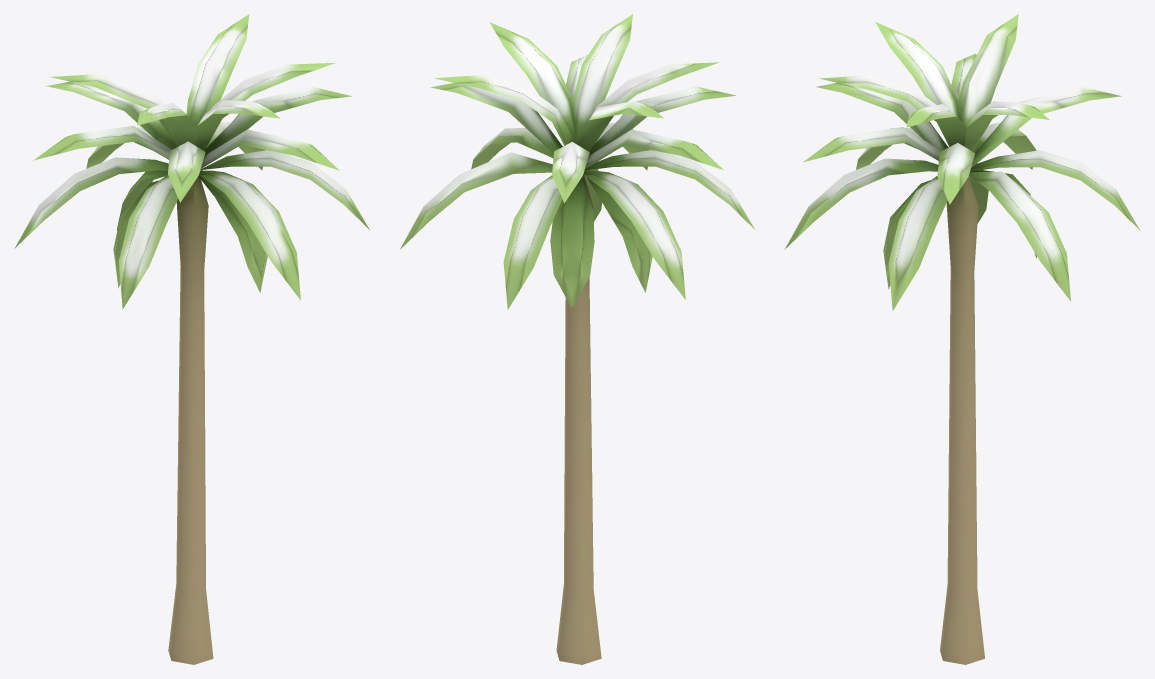
3 renders of one model, left to right at view 1: azimuth 30°, elevation 25°; view 2: azimuth 150°, elevation 25°; view 3: azimuth 270°, elevation 25°, orthographic.
Visible parts, largest first — view 1: wPalm1; view 2: wPalm1; view 3: wPalm1.
Part boxes in pixels (x1,y1,x2,y2): wPalm1: (14, 14, 369, 664); wPalm1: (400, 14, 754, 664); wPalm1: (784, 14, 1140, 664).
Size of the model in its own units: 10.96 by 19.97 by 11.02.
Materials: 1 (1 with a texture image).
